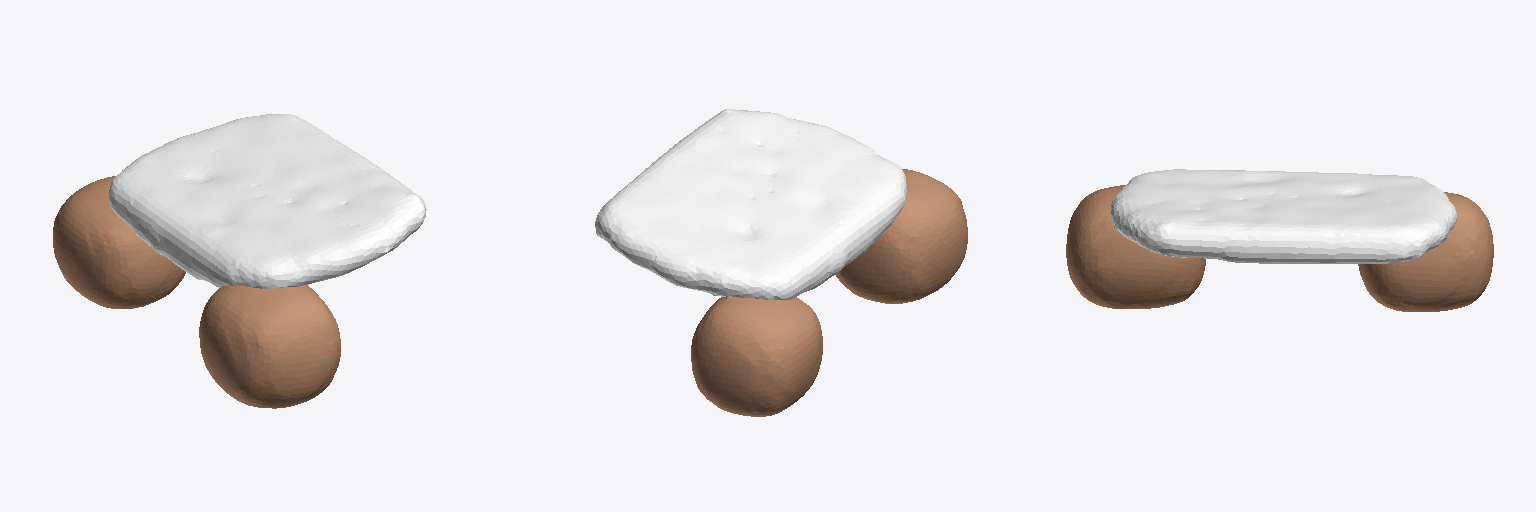
File: chaji3.obj
3 renders of one model, left to right at view 1: azimuth 30°, elevation 25°; view 2: azimuth 150°, elevation 25°; view 3: azimuth 270°, elevation 25°, orthographic.
Bounding box in the file's own units: 0.5194 × 0.3438 × 0.8363.